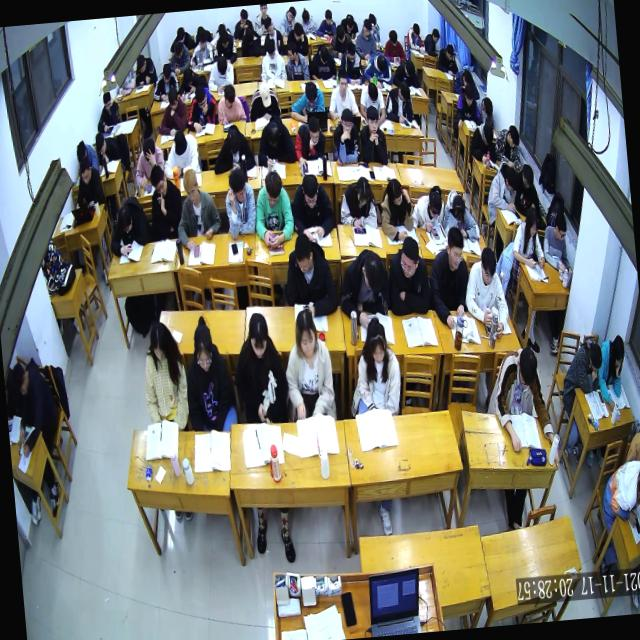bow: (105, 192, 153, 256), (208, 120, 256, 174), (439, 186, 480, 244), (288, 78, 327, 123), (361, 48, 394, 88), (176, 66, 208, 100), (390, 56, 421, 90), (94, 130, 124, 164), (450, 66, 479, 100), (238, 23, 262, 58)
down: (190, 322, 216, 373), (358, 248, 386, 294), (516, 344, 540, 392), (365, 316, 388, 366), (247, 312, 270, 360), (292, 232, 314, 274), (262, 168, 284, 209), (148, 318, 169, 359), (299, 170, 320, 208), (479, 246, 498, 286), (180, 168, 200, 205), (10, 364, 30, 398), (148, 160, 168, 194), (610, 331, 626, 368), (352, 176, 370, 207), (586, 340, 602, 372), (524, 206, 540, 238), (224, 126, 241, 156), (426, 188, 443, 218), (116, 205, 133, 235), (451, 190, 466, 223), (386, 177, 403, 206), (141, 134, 157, 164), (306, 115, 322, 145), (172, 128, 188, 157), (503, 165, 519, 193), (194, 81, 208, 110), (554, 211, 568, 240), (266, 121, 281, 148), (78, 154, 92, 182), (304, 78, 318, 106), (258, 81, 272, 108), (521, 163, 535, 190), (506, 124, 520, 150), (74, 140, 88, 164), (480, 120, 494, 144), (396, 80, 409, 104), (223, 84, 236, 108), (374, 51, 388, 72), (166, 84, 178, 108), (134, 54, 148, 74), (506, 200, 520, 220), (94, 131, 106, 154), (367, 80, 379, 103), (264, 36, 276, 58), (215, 55, 228, 75), (161, 61, 172, 84), (262, 13, 274, 34), (344, 40, 356, 61), (404, 57, 416, 78), (461, 68, 474, 87), (172, 38, 184, 58), (243, 24, 255, 44), (360, 16, 372, 36), (480, 96, 492, 116), (464, 82, 474, 106), (634, 474, 640, 513), (218, 27, 229, 47), (300, 4, 310, 26), (318, 44, 329, 64), (344, 12, 355, 32), (182, 68, 194, 86), (102, 91, 112, 112), (334, 22, 344, 43), (198, 28, 208, 48), (292, 18, 302, 38), (444, 41, 454, 61), (388, 27, 398, 46), (176, 22, 186, 40), (238, 8, 248, 26), (412, 20, 421, 39), (286, 5, 296, 22), (323, 8, 332, 26), (431, 26, 440, 42)
lookup: (292, 308, 318, 360), (397, 233, 421, 279), (444, 225, 465, 271), (339, 106, 355, 136), (365, 104, 380, 134), (336, 67, 348, 94), (259, 4, 268, 17)
sit: (484, 337, 558, 451), (229, 310, 289, 426), (180, 314, 237, 432), (281, 304, 336, 424), (342, 311, 403, 415), (138, 320, 192, 432), (278, 230, 338, 324), (423, 224, 472, 331), (8, 358, 62, 451), (336, 245, 392, 332), (460, 245, 510, 341), (171, 163, 222, 249), (382, 232, 432, 319), (250, 166, 295, 250), (288, 168, 335, 240), (144, 159, 184, 242), (556, 334, 606, 396), (597, 454, 640, 526), (221, 164, 259, 240), (594, 331, 630, 410), (376, 176, 416, 244), (252, 110, 296, 165), (336, 172, 379, 228), (290, 111, 328, 174), (508, 205, 544, 271), (160, 124, 202, 178), (483, 158, 520, 216), (540, 206, 572, 272), (130, 134, 167, 191), (356, 103, 388, 167), (329, 106, 362, 168), (324, 64, 360, 120), (71, 156, 104, 210), (184, 82, 218, 133), (412, 184, 446, 234), (156, 84, 188, 136), (245, 79, 282, 123), (510, 160, 540, 214), (492, 122, 522, 172), (382, 78, 414, 124), (452, 81, 483, 128), (356, 78, 386, 126), (256, 34, 286, 80), (215, 83, 247, 124), (204, 53, 236, 94), (336, 40, 364, 86), (150, 60, 180, 102), (468, 119, 497, 162), (94, 88, 120, 132), (306, 40, 336, 78), (352, 17, 378, 60), (284, 40, 311, 81), (209, 24, 237, 62), (326, 22, 354, 60), (259, 16, 284, 56), (187, 29, 214, 66), (132, 51, 158, 88), (381, 27, 407, 62), (284, 18, 308, 55), (166, 38, 192, 72), (436, 43, 460, 79), (168, 24, 195, 53), (231, 7, 254, 41), (313, 8, 337, 40), (404, 20, 425, 56), (276, 6, 298, 38), (475, 94, 494, 130), (252, 4, 270, 39), (338, 9, 359, 39), (422, 26, 442, 56), (299, 6, 319, 34)
